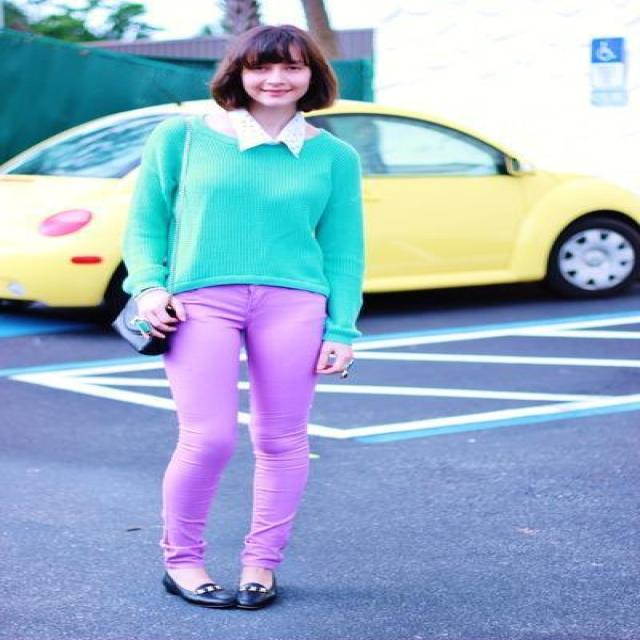bag: (114, 295, 171, 354)
jacket: (122, 115, 363, 345)
pants: (134, 285, 332, 567)
shoe: (162, 576, 280, 610)
